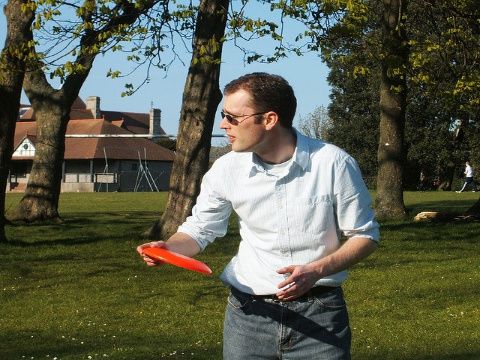hand: (274, 264, 317, 302)
